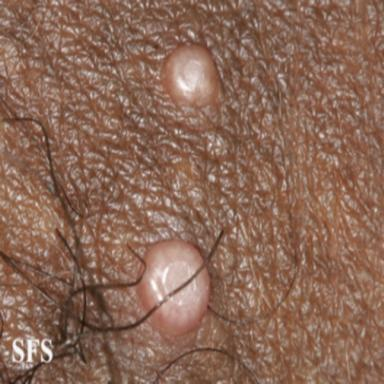Molluscum-Contagiosum: (135, 239, 210, 335), (162, 44, 219, 105)
